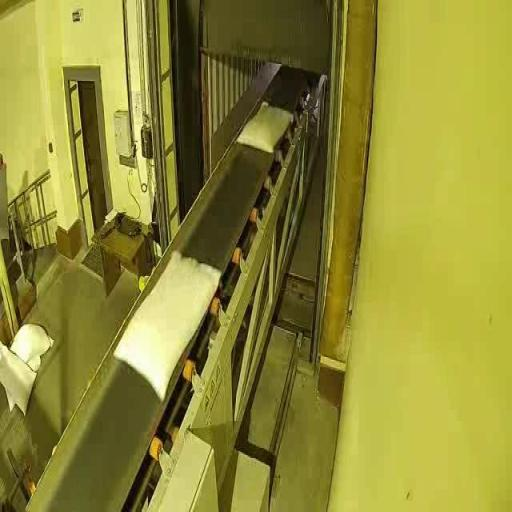c-belt-sack-count: (115, 252, 220, 400), (238, 101, 293, 154)
